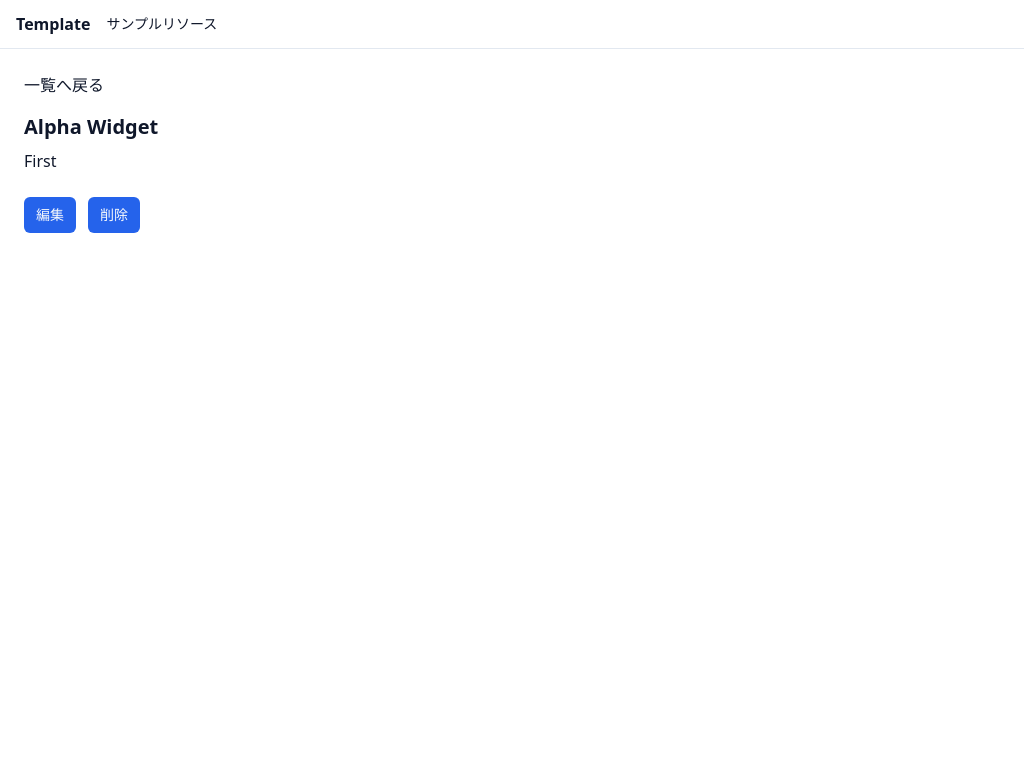
Scenario: sample resource delete › asks for confirmation in a modal and only deletes after approval
Click the button "削除".
click(114, 215)  # box 88,197 -> 140,233
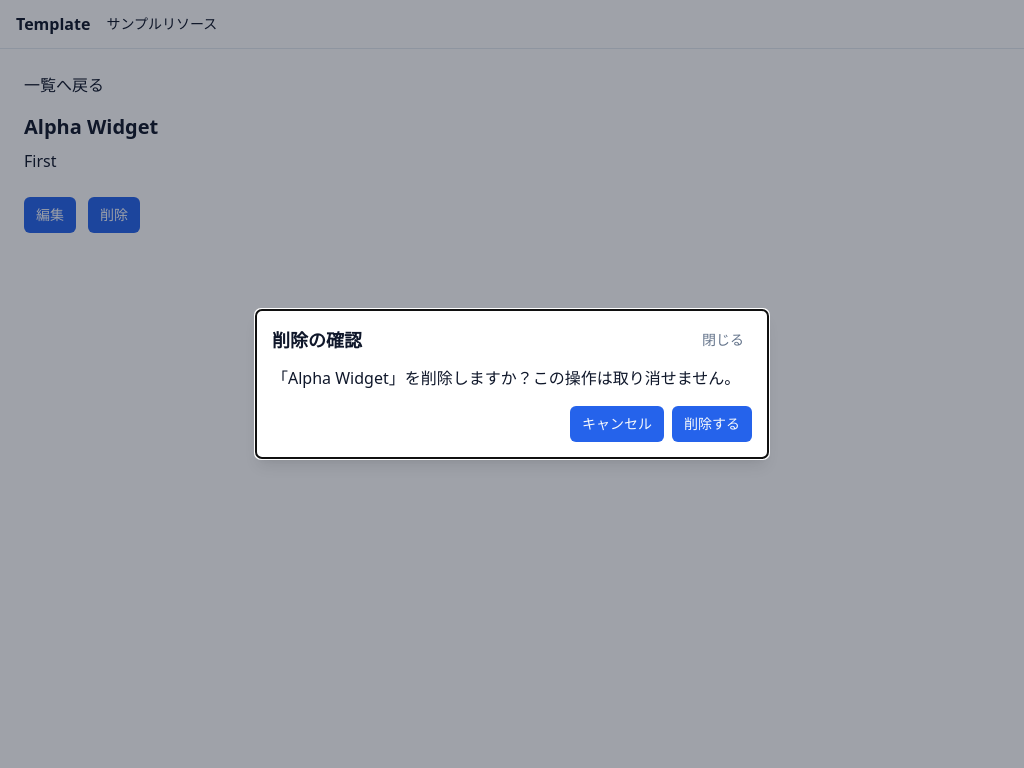
Expected: the dialog "削除の確認" is shown, 256,310 -> 768,458
Click the button "キャンセル".
click(617, 424)  # box 570,406 -> 664,442
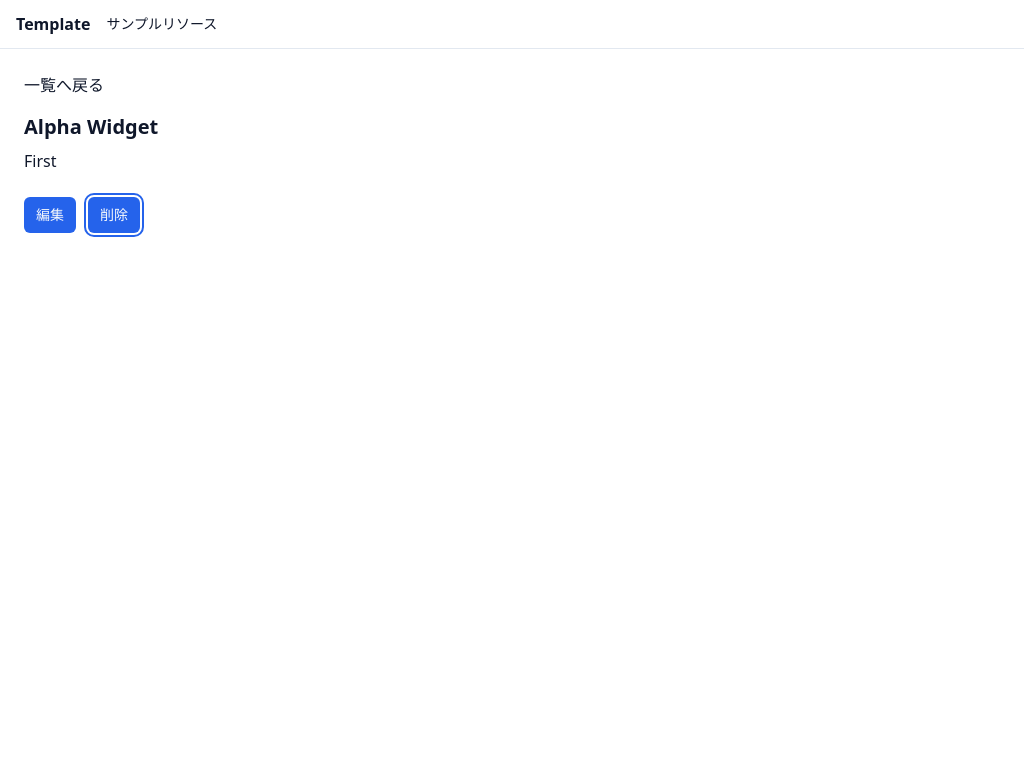
Expected: the heading "Alpha Widget" is shown, 24,113 -> 158,140
Expected: the dialog is gone
Click the button "削除".
click(114, 215)  # box 88,197 -> 140,233
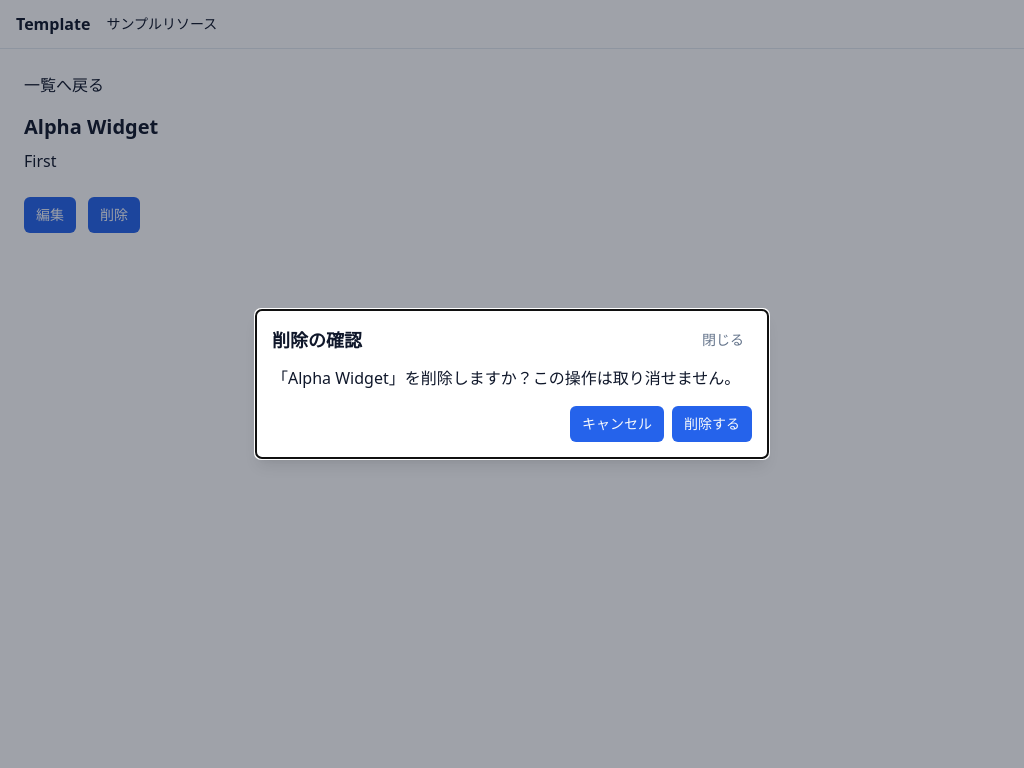
Click the button "削除する".
click(712, 424)  # box 672,406 -> 752,442
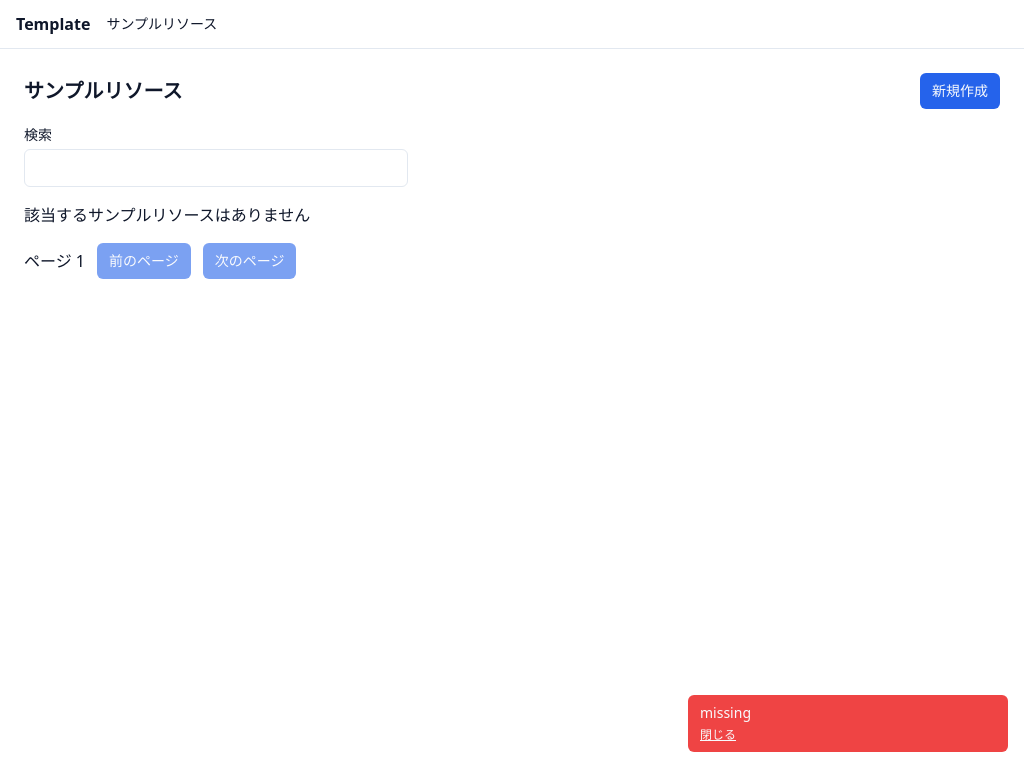
Expected: the heading "サンプルリソース" is shown, 24,77 -> 182,105
Expected: the heading "Alpha Widget" is gone
